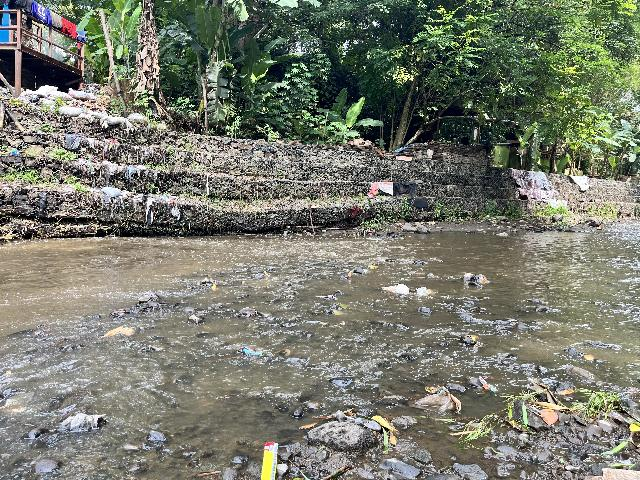Sampah Anorganik: (404, 384, 461, 416), (257, 441, 280, 480), (474, 375, 502, 394), (458, 271, 488, 287), (376, 282, 410, 295), (237, 346, 266, 356), (413, 286, 434, 296), (314, 295, 338, 301), (367, 264, 380, 269), (283, 282, 293, 285)
Sampah Organik: (513, 383, 621, 427), (295, 407, 399, 451), (447, 421, 499, 440), (587, 470, 640, 480), (265, 291, 300, 305), (97, 323, 134, 336), (326, 302, 349, 316), (193, 469, 222, 477), (314, 323, 345, 329), (272, 348, 289, 355), (244, 309, 258, 317), (108, 309, 126, 314), (212, 285, 217, 291), (347, 272, 352, 277), (263, 272, 269, 276)
